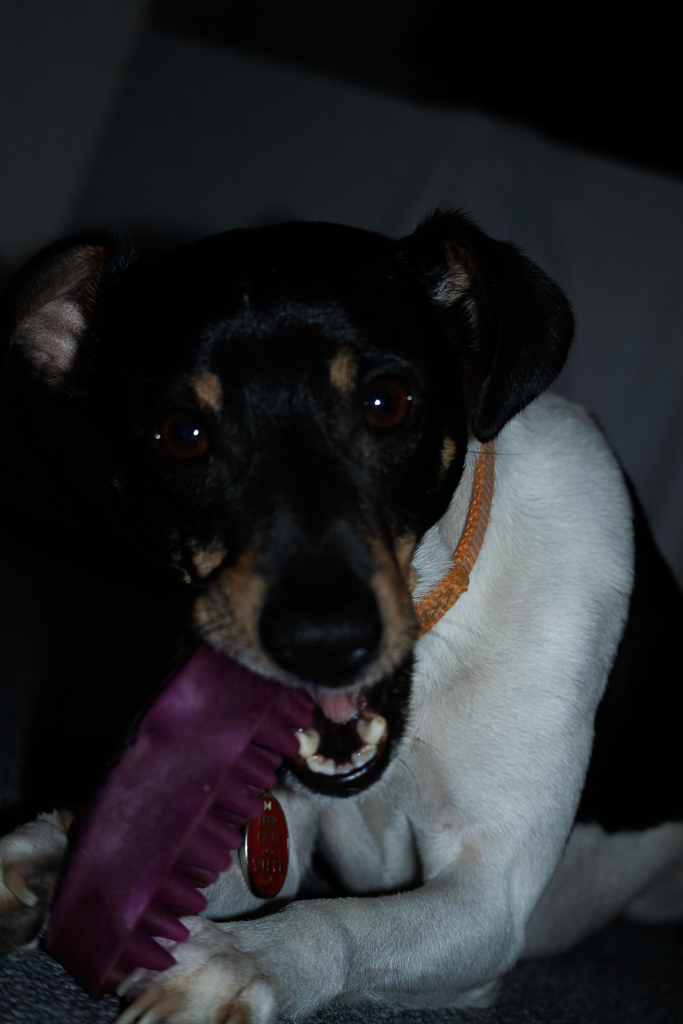Dog: (0, 196, 683, 1024)
